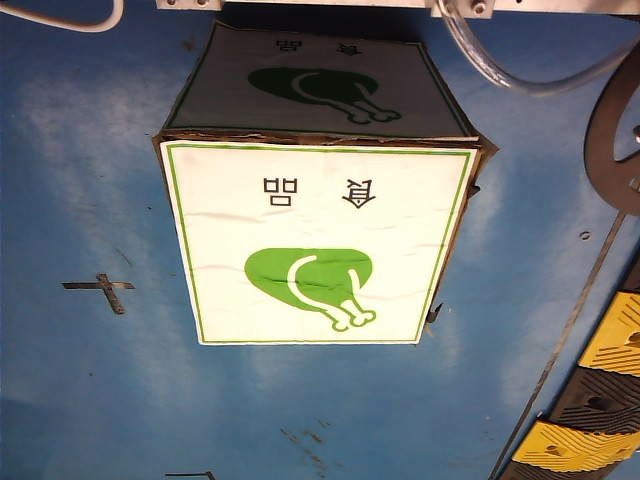Cube_food: (215, 156, 415, 342)
